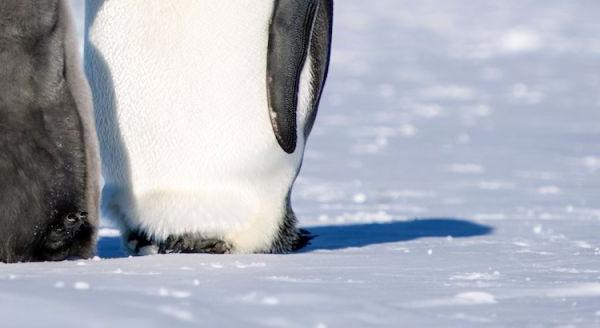Emperor Penguin: (48, 0, 369, 300)
